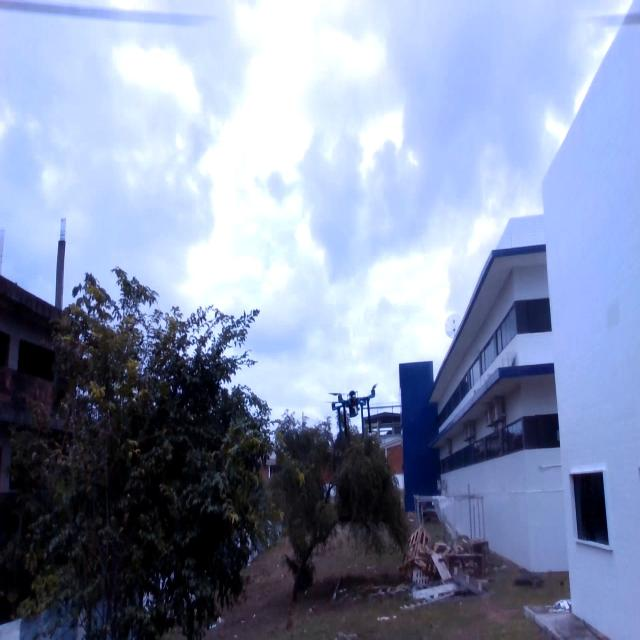-uav-: (322, 380, 388, 448)
